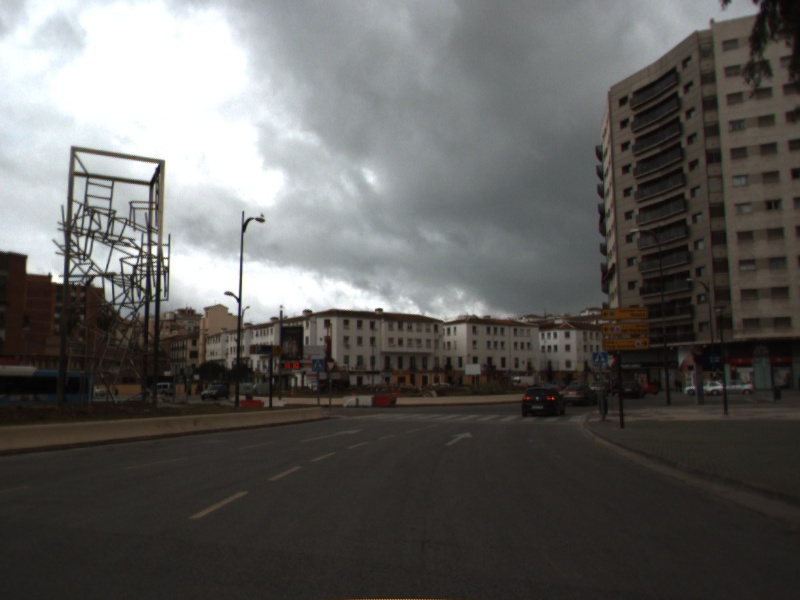STRAIGHT: (297, 427, 363, 444), (442, 429, 475, 448)
